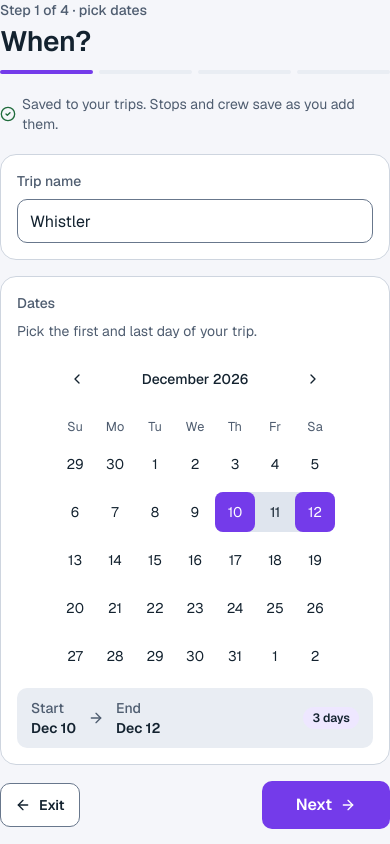
New trip wizard › shows the saved month when opening step 1 and replacing the range
Expected: the heading "When?" is shown, [0,23,91,59]
Click the button "14" at (115, 560), box [95,540,135,580]
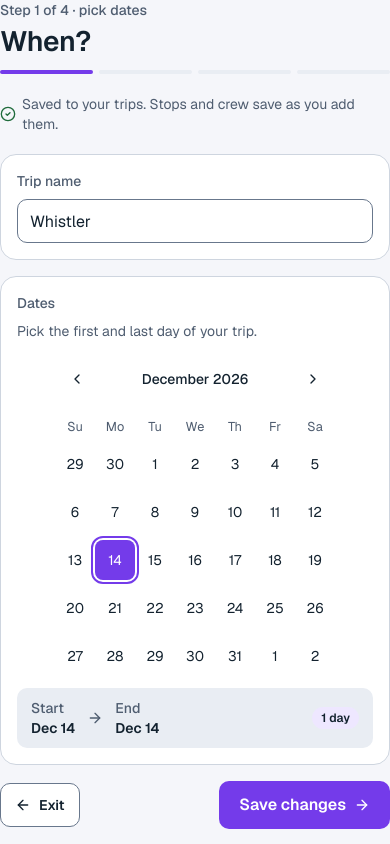
Click the button "16" at (195, 560), box [175,540,215,580]
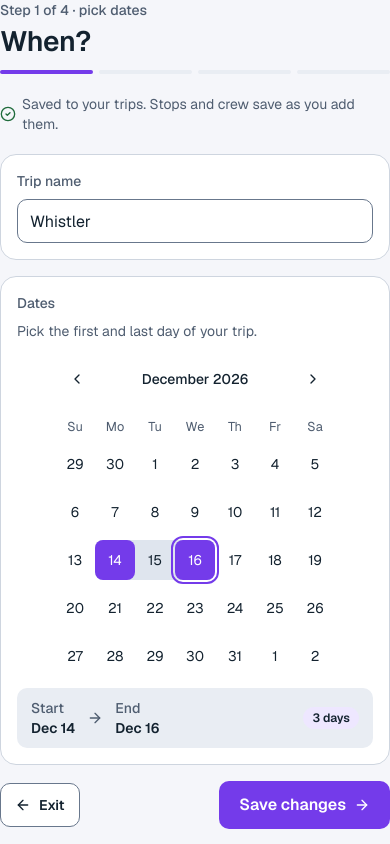
Click the button "Save changes" at (305, 805), box [219,781,389,829]
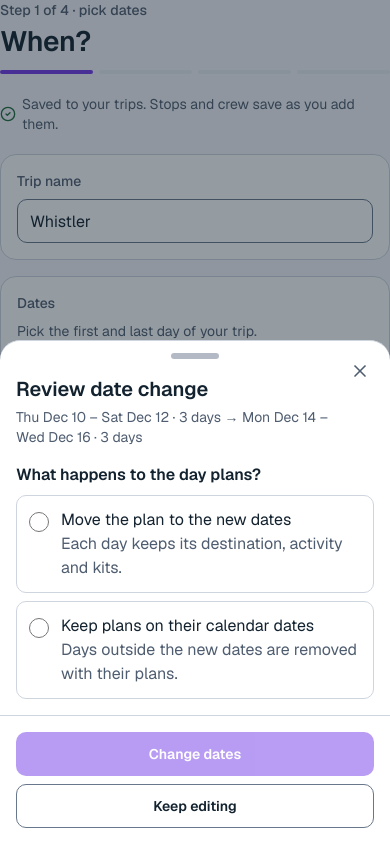
Click the radio button labelled "Move the plan" at (39, 522), box [29,512,49,532]
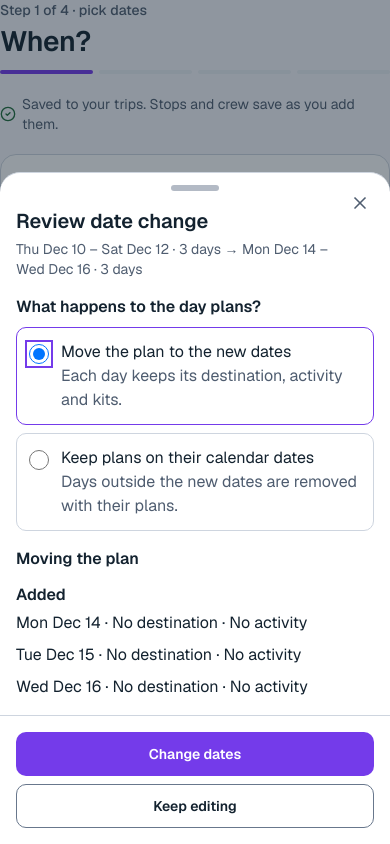
Click the button "Change dates" at (195, 754), box [16,732,374,776]
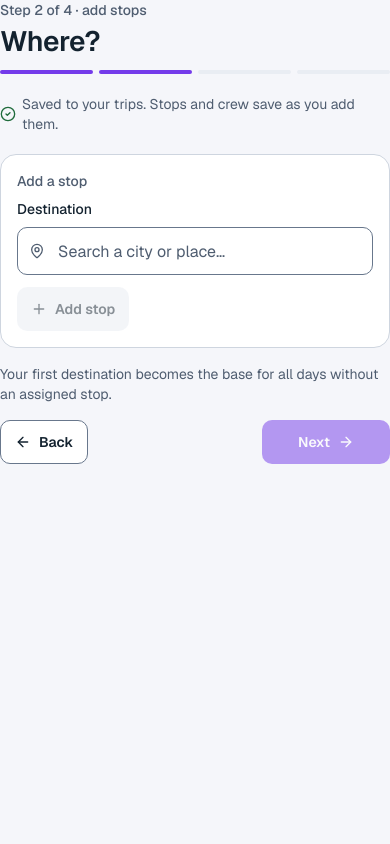
Now the heading "Where?" is shown, box [0,23,100,59]
